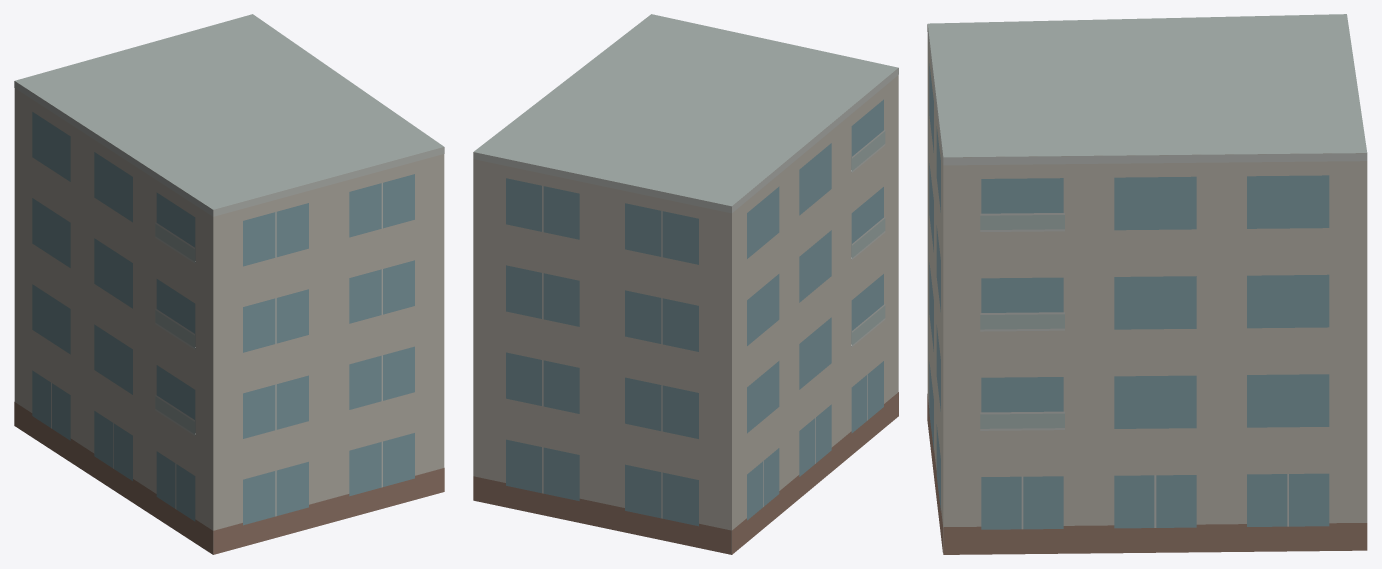
File: survey-upis-32995833.glb
The picture shows the model from 3 angles, left to right: view 1: azimuth 30°, elevation 25°; view 2: azimuth 150°, elevation 25°; view 3: azimuth 270°, elevation 25°; orthographic projection. The views are drawn at different scales.
Visible parts, largest first — view 1: survey-upis-32995833.tmp; view 2: survey-upis-32995833.tmp; view 3: survey-upis-32995833.tmp.
Boxes of the visible parts, left/top/right/bottom form: survey-upis-32995833.tmp: left=14, top=14, right=444, bottom=554; survey-upis-32995833.tmp: left=473, top=14, right=898, bottom=554; survey-upis-32995833.tmp: left=927, top=14, right=1367, bottom=554.
Size of the model in its own units: 9.3 by 12 by 12.04.
